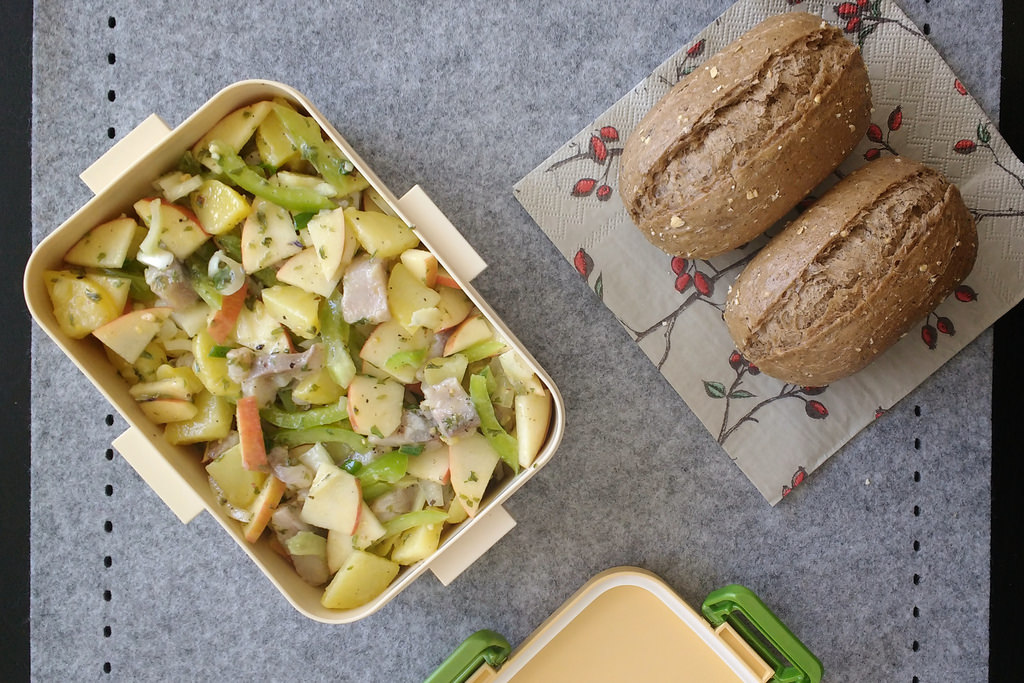boiled potatoes: (122, 212, 437, 484)
slice of bread: (670, 77, 929, 336)
